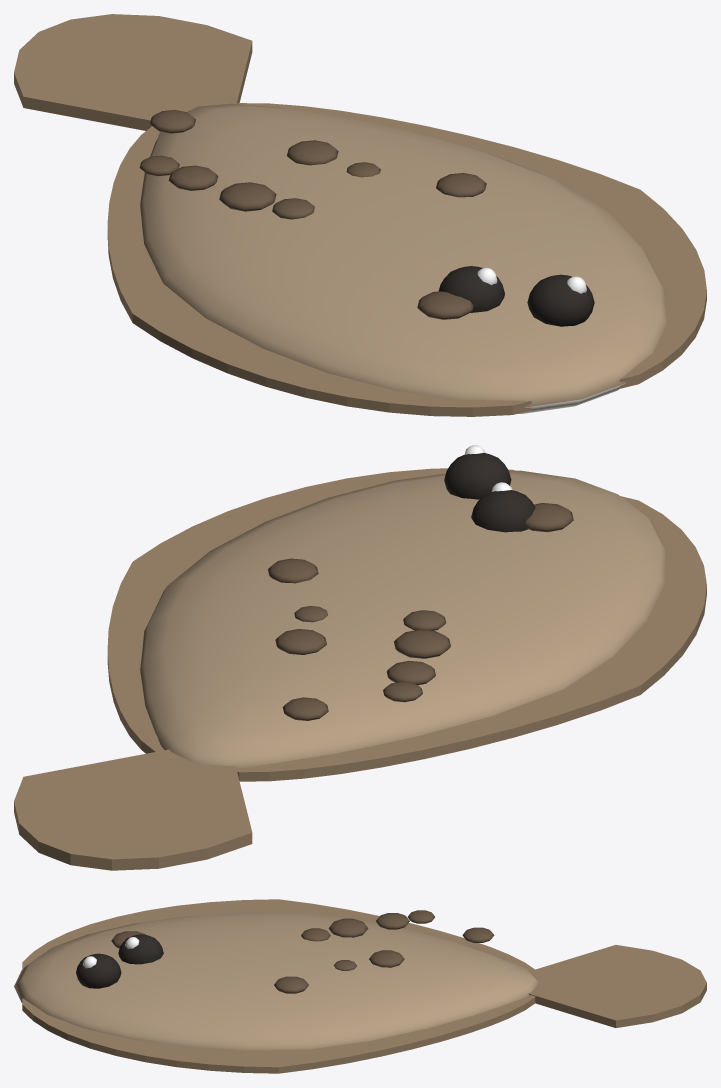
Rendered from fish-flounder.glb.
3 renders of one model, top to bottom at view 1: azimuth 30°, elevation 25°; view 2: azimuth 150°, elevation 25°; view 3: azimuth 270°, elevation 25°, orthographic. The views are drawn at different scales.
Parts seen in each view (by area): view 1: fish; view 2: fish; view 3: fish.
Boxes of the visible parts, x1,y1,x2,y2 form: fish: (14, 14, 706, 416); fish: (14, 445, 706, 870); fish: (14, 899, 706, 1073).
Size of the model in its own units: 0.2811 by 0.0601 by 0.49.
